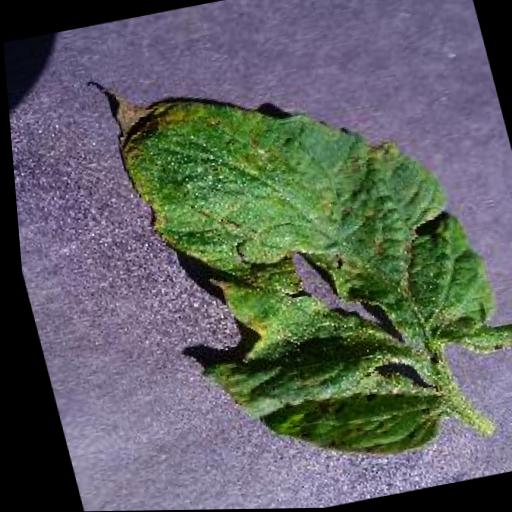Septoria: (95, 12, 512, 487)
